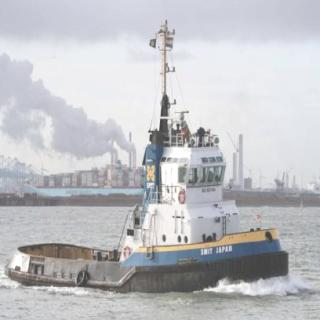Tug Boat: (19, 23, 288, 296)
